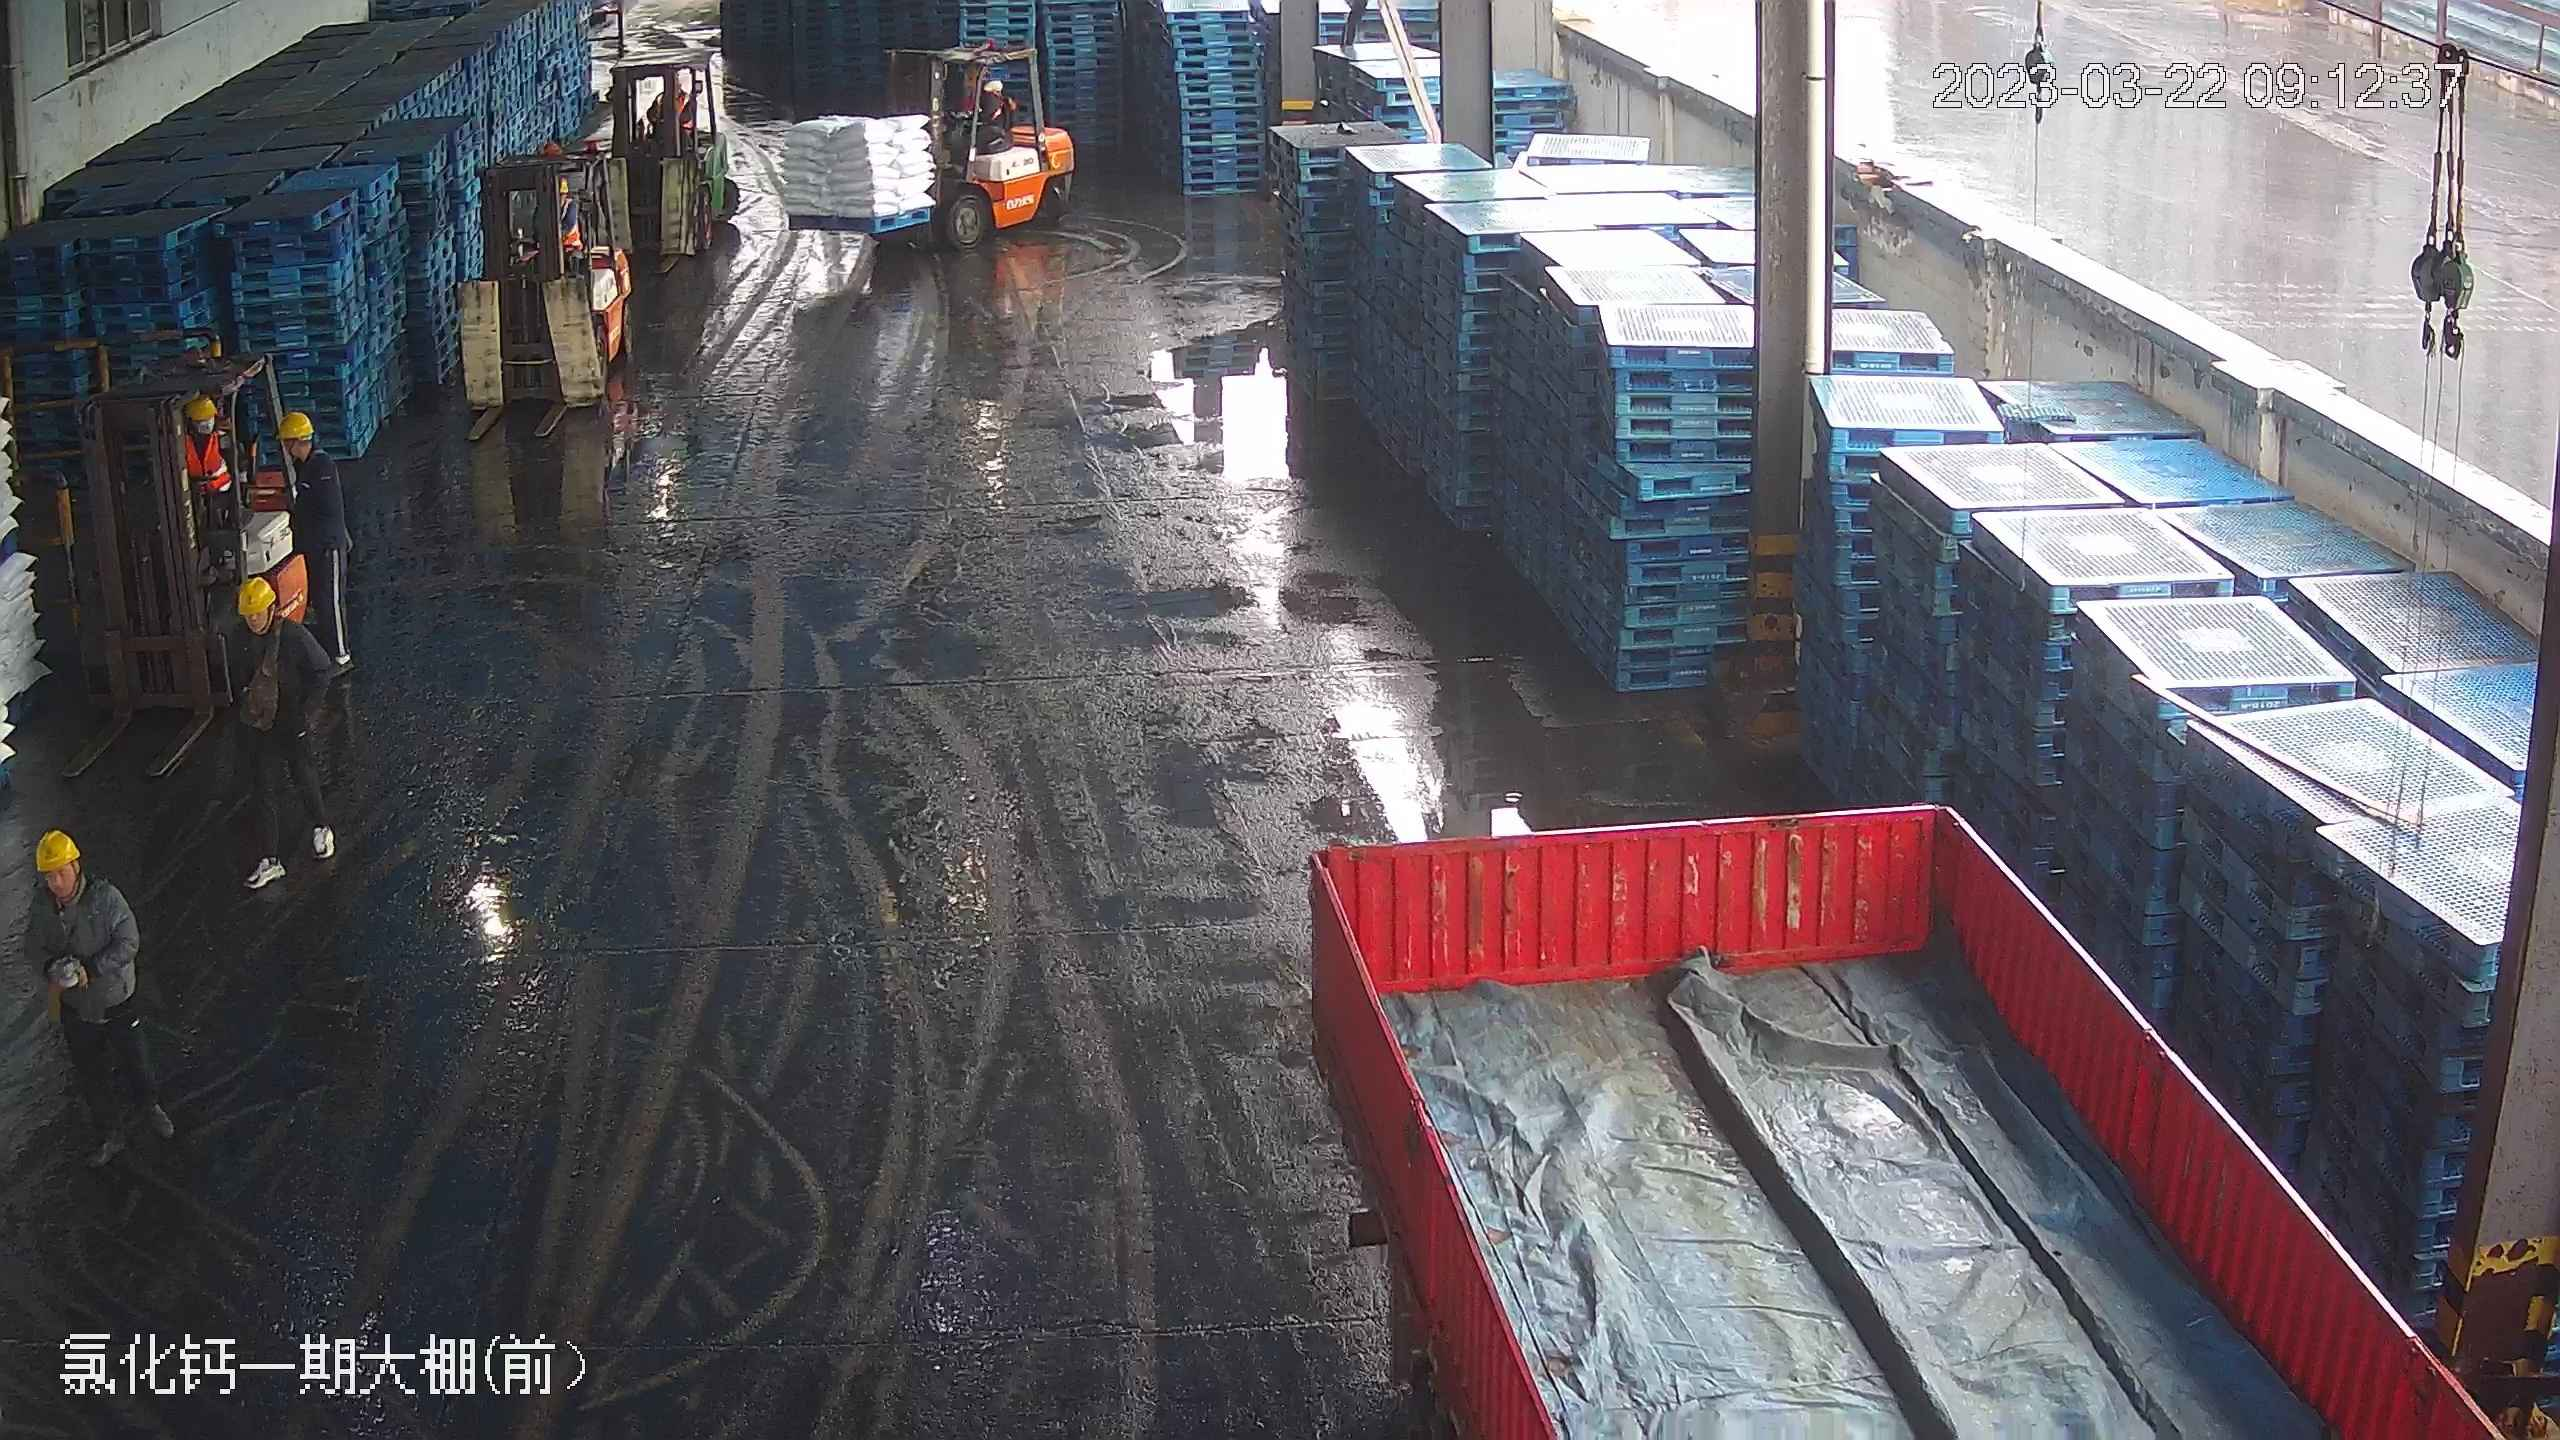head: (19, 832, 137, 972), (226, 573, 327, 691), (268, 410, 338, 493), (174, 394, 233, 470)
helmet: (30, 829, 83, 870), (235, 573, 277, 613), (276, 409, 317, 439), (184, 395, 221, 422)
people: (10, 824, 172, 1189), (219, 573, 340, 891), (262, 410, 360, 667)
truck: (1284, 805, 2503, 1440)
